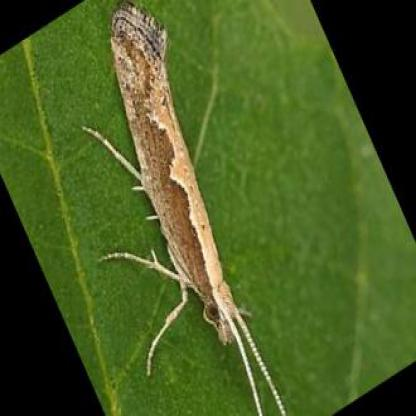plutella: (94, 4, 285, 413)
